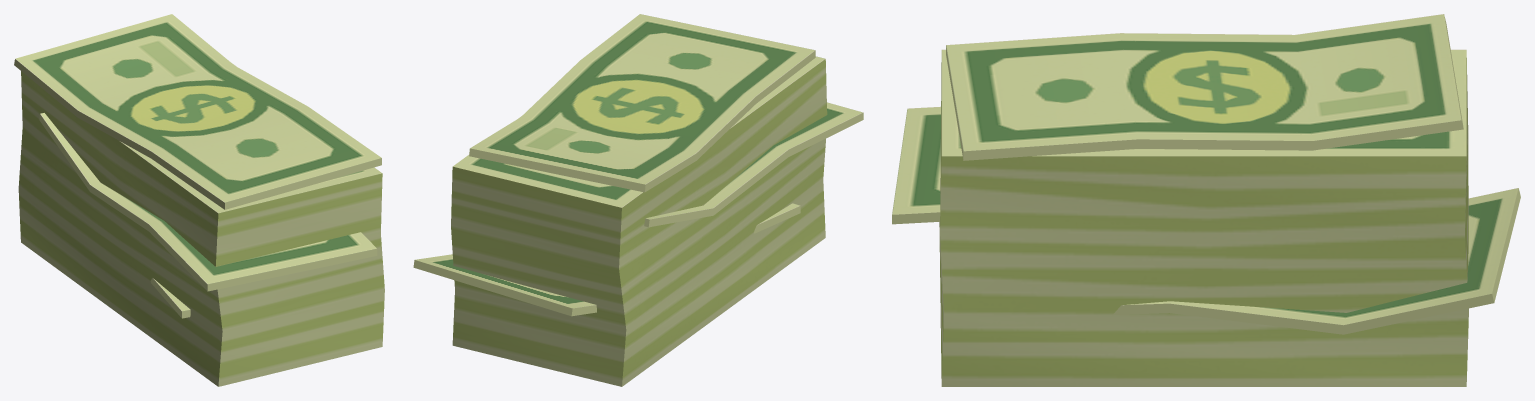
File: cash-10.glb
3 views of the same model, side by side, from view 1: azimuth 30°, elevation 25°; view 2: azimuth 150°, elevation 25°; view 3: azimuth 270°, elevation 25° (orthographic). The views are drawn at different scales.
Visible parts, largest first — view 1: Cash_10; view 2: Cash_10; view 3: Cash_10.
Boxes of the visible parts, <box> form: Cash_10: <box>14,14,384,386</box>; Cash_10: <box>413,14,863,386</box>; Cash_10: <box>892,14,1520,386</box>.
Bounding box in the file's own units: 0.1574 × 0.1351 × 0.2995.
Materials: 1 (1 with a texture image).
